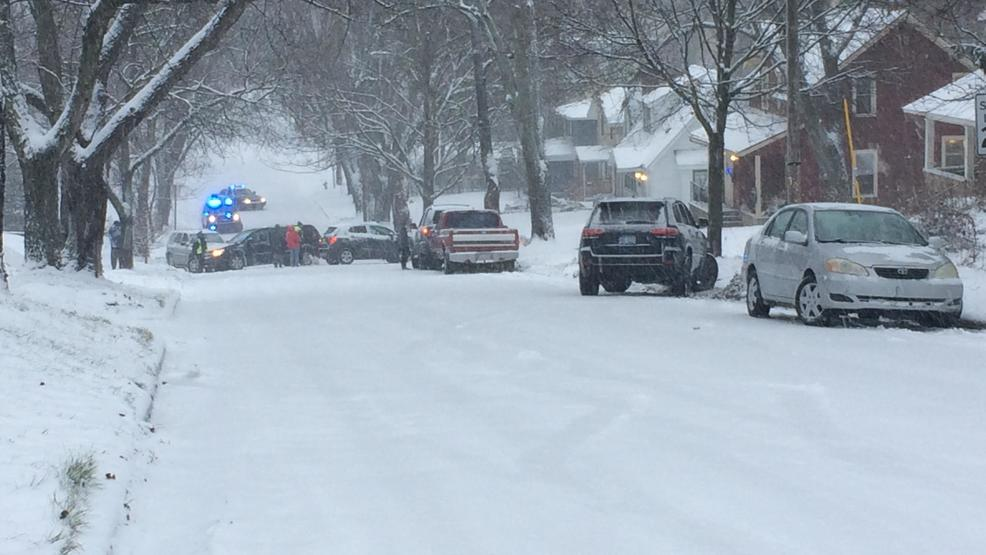car: (742, 201, 965, 327), (576, 194, 719, 298), (317, 221, 411, 272)
person: (396, 216, 414, 271), (284, 224, 306, 268)
truck: (430, 208, 521, 276)
